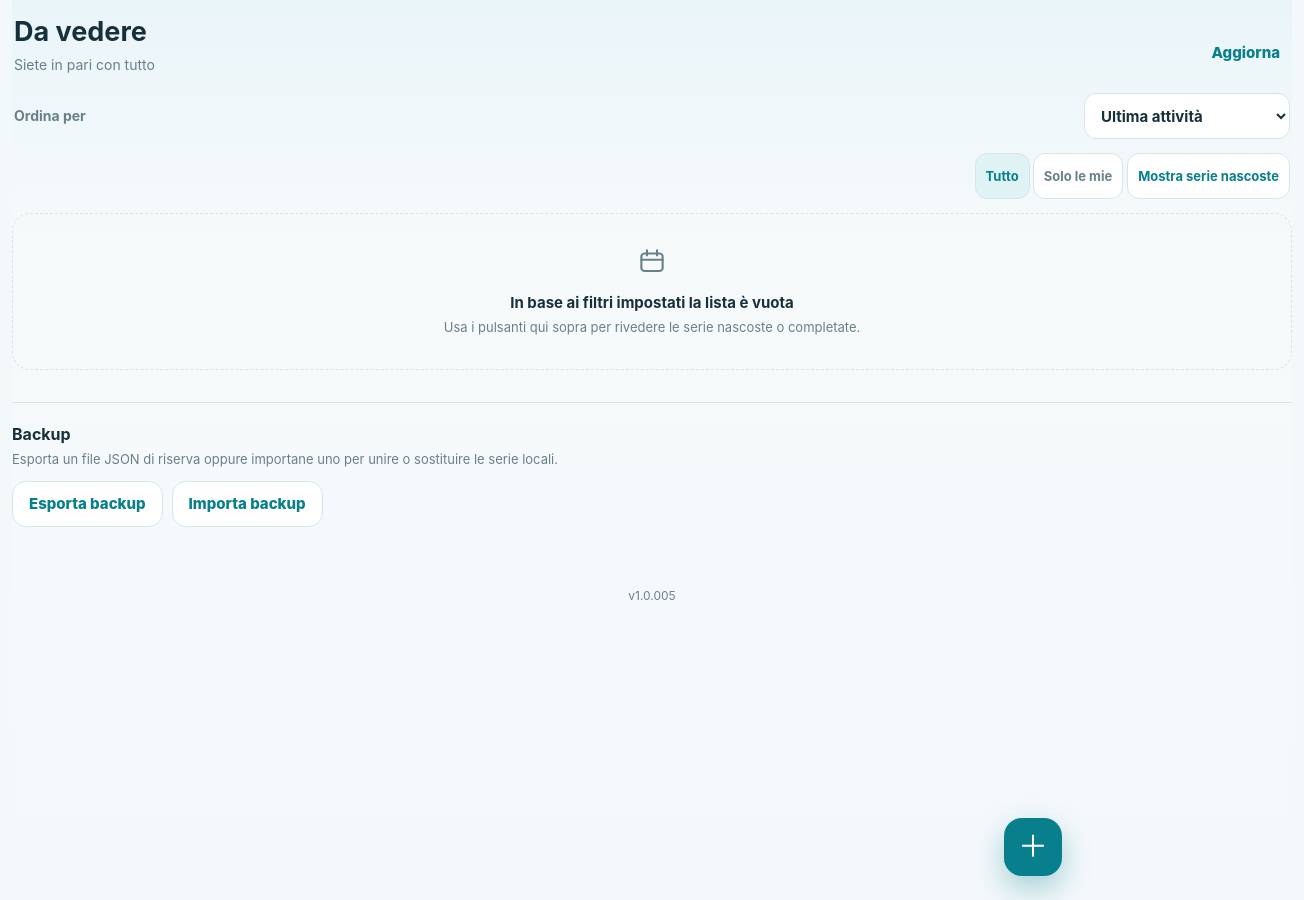
it: HomeView — serie nascoste (criteri 7, 8, 10, 11) › mostra lo stato vuoto unico quando è tutto nascosto, con i controlli premibili
Expected: the dropdown with id "sortMode" is shown, x1=1084 y1=93 x2=1290 y2=139
Click the button with class "hidden-toggle". click: (1209, 176)
box: x1=1127 y1=153 x2=1290 y2=199
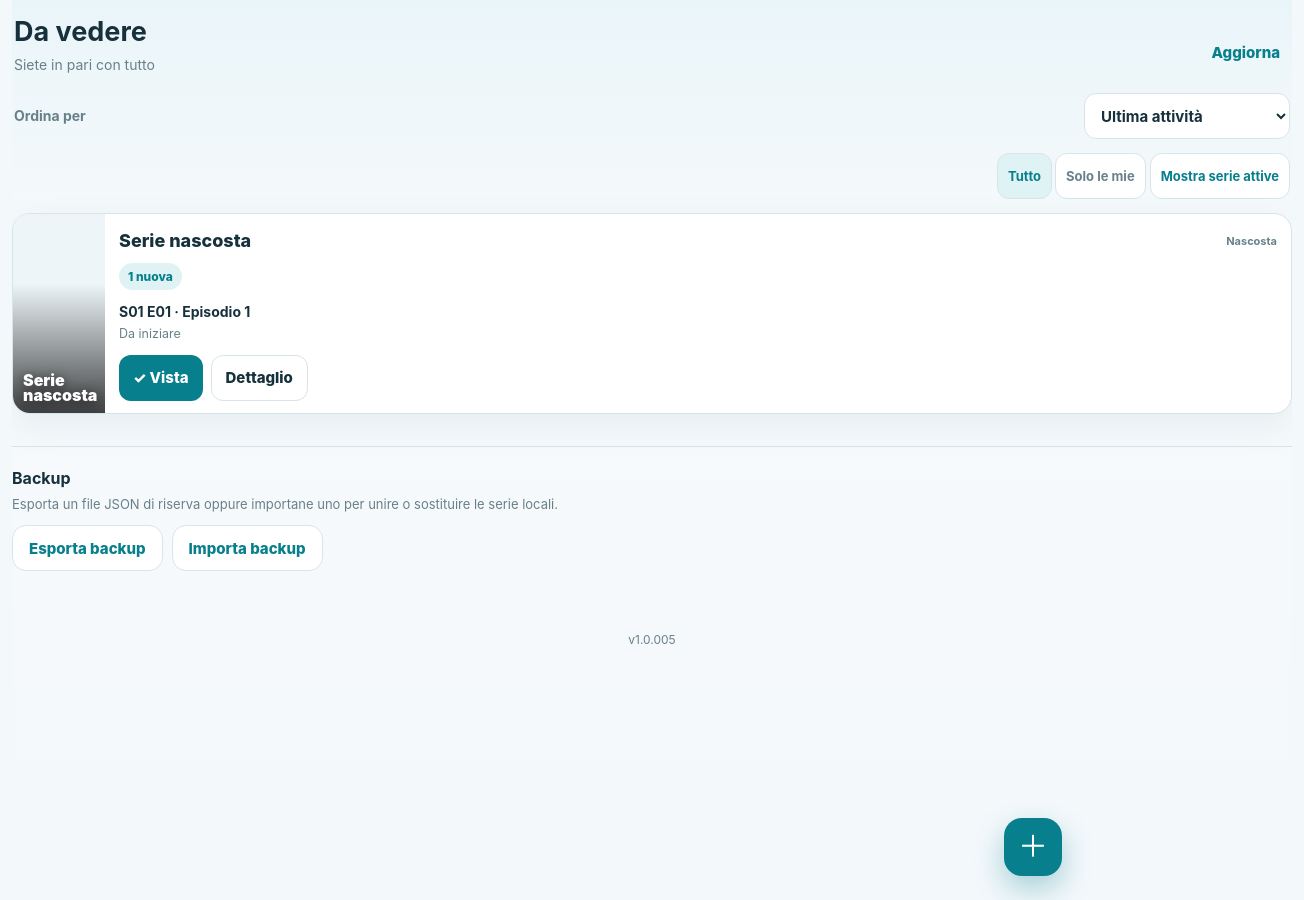
Expected: the number of elements with class "show" is 1, x1=12 y1=213 x2=1292 y2=414
